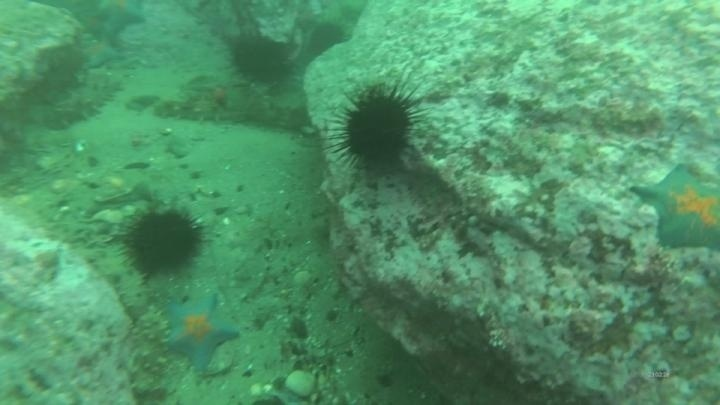echinus: (330, 81, 425, 175), (118, 202, 207, 279), (226, 31, 293, 88), (305, 20, 349, 60)
holothurian: (88, 250, 154, 323), (43, 74, 124, 132), (236, 85, 322, 132), (128, 305, 172, 396), (149, 91, 240, 126)
starfish: (630, 162, 720, 255), (161, 292, 242, 374), (92, 1, 149, 39), (77, 36, 123, 70)
